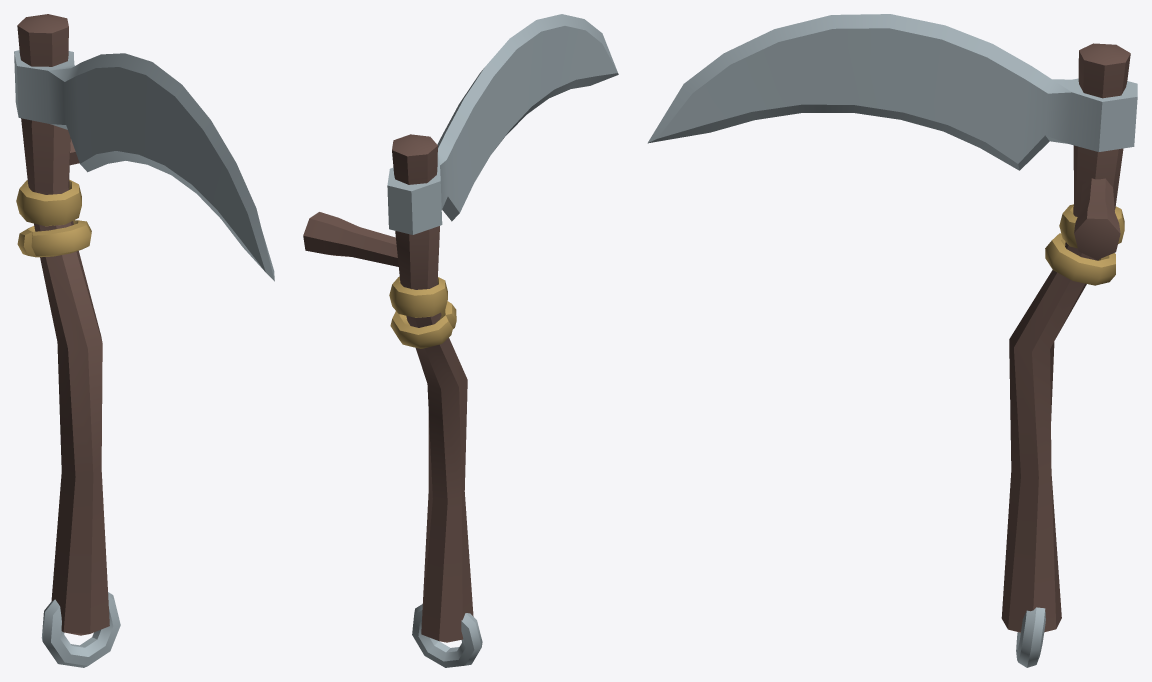
File: goblin_scythe.fbx
3 renders of one model, left to right at view 1: azimuth 30°, elevation 25°; view 2: azimuth 150°, elevation 25°; view 3: azimuth 270°, elevation 25°, orthographic. The views are drawn at different scales.
Visible parts, largest first — view 1: goblin_scythe; view 2: goblin_scythe; view 3: goblin_scythe.
Boxes of the visible parts, bbox=[...] form: goblin_scythe: bbox=[14, 14, 274, 667]; goblin_scythe: bbox=[303, 14, 618, 667]; goblin_scythe: bbox=[647, 14, 1137, 667].
Size of the model in its own units: 0.4173 by 1.64 by 1.12.
